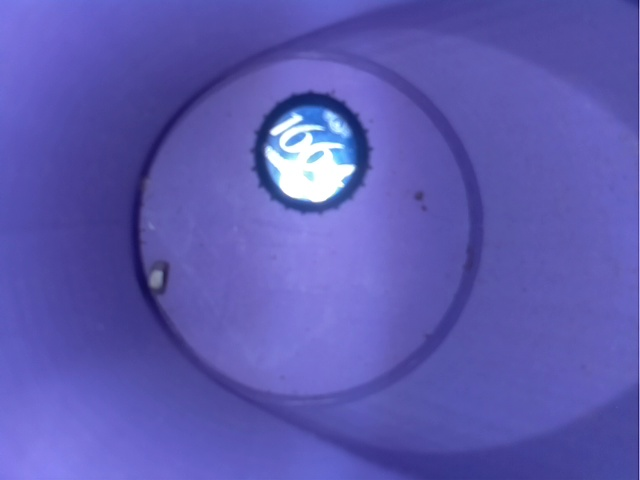capsule: (246, 82, 379, 221)
